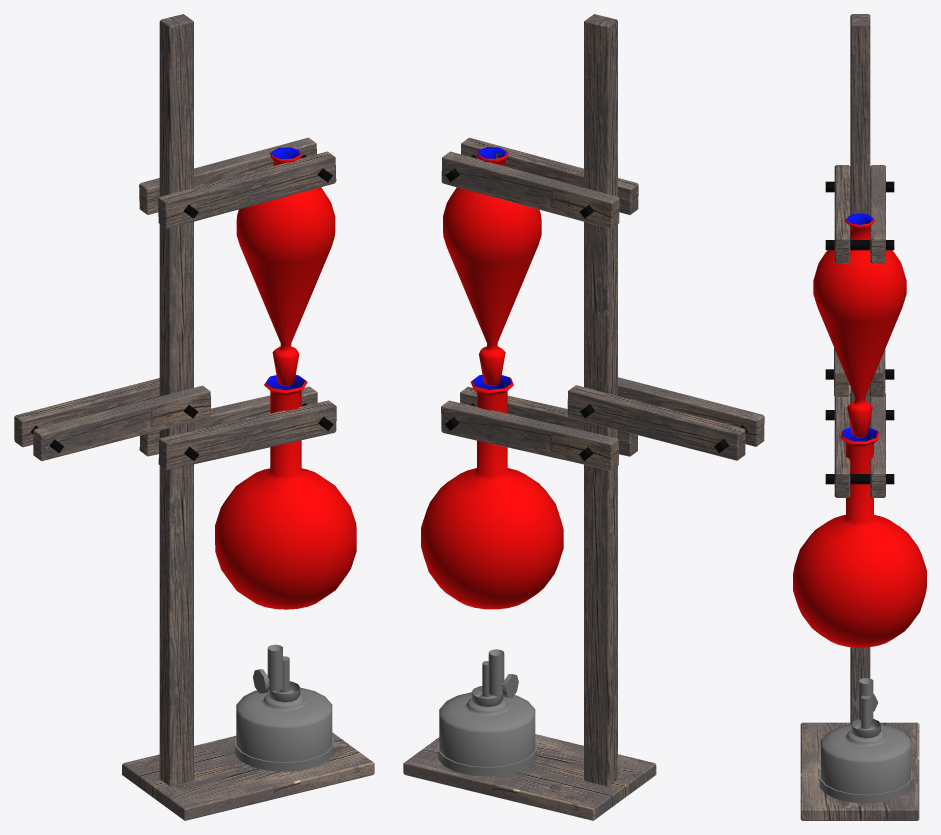
Rendered from LabSetup01.FBX.
3 views of the same model, side by side, from view 1: azimuth 30°, elevation 25°; view 2: azimuth 150°, elevation 25°; view 3: azimuth 270°, elevation 25° (orthographic). The views are drawn at different scales.
Parts seen in each view (by area): view 1: Box019, VialRound01, VialDrop02, Box018, Box022, Box021, Burner002, Box020; view 2: Box019, VialRound01, VialDrop02, Box022, Box018, Box021, Burner002, Box020; view 3: VialRound01, VialDrop02, Burner002, Box018, Box019, Box021, Box020, Box022.
Part boxes in pixels (<box>): Box019: <box>159,14,193,785</box>; VialRound01: <box>215,375,356,609</box>; VialDrop02: <box>236,147,335,386</box>; Box018: <box>122,732,374,820</box>; Box022: <box>14,378,210,461</box>; Box021: <box>139,137,336,228</box>; Burner002: <box>235,644,333,771</box>; Box020: <box>139,386,336,470</box>; Box019: <box>584,14,617,786</box>; VialRound01: <box>421,374,563,609</box>; VialDrop02: <box>443,147,541,386</box>; Box022: <box>567,377,764,460</box>; Box018: <box>403,734,656,820</box>; Box021: <box>441,137,638,228</box>; Burner002: <box>438,649,536,776</box>; Box020: <box>441,386,637,470</box>; VialRound01: <box>793,427,926,647</box>; VialDrop02: <box>813,213,906,438</box>; Burner002: <box>819,678,912,803</box>; Box018: <box>800,722,919,820</box>; Box019: <box>850,14,870,724</box>; Box021: <box>825,165,894,263</box>; Box020: <box>825,393,894,497</box>; Box022: <box>825,348,894,397</box>.
Size of the model in its own units: 11.99 by 4.61 by 27.6.
